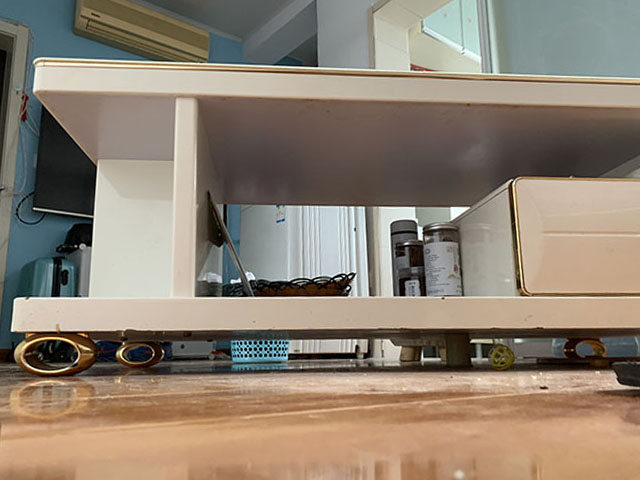table: (8, 54, 640, 382)
